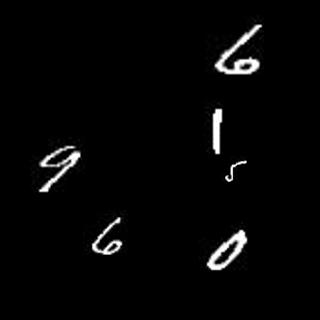five: (223, 159, 247, 185)
nine: (37, 140, 80, 195)
one: (209, 104, 223, 157)
six: (210, 19, 268, 80), (93, 215, 126, 256)
zero: (203, 227, 248, 268)
